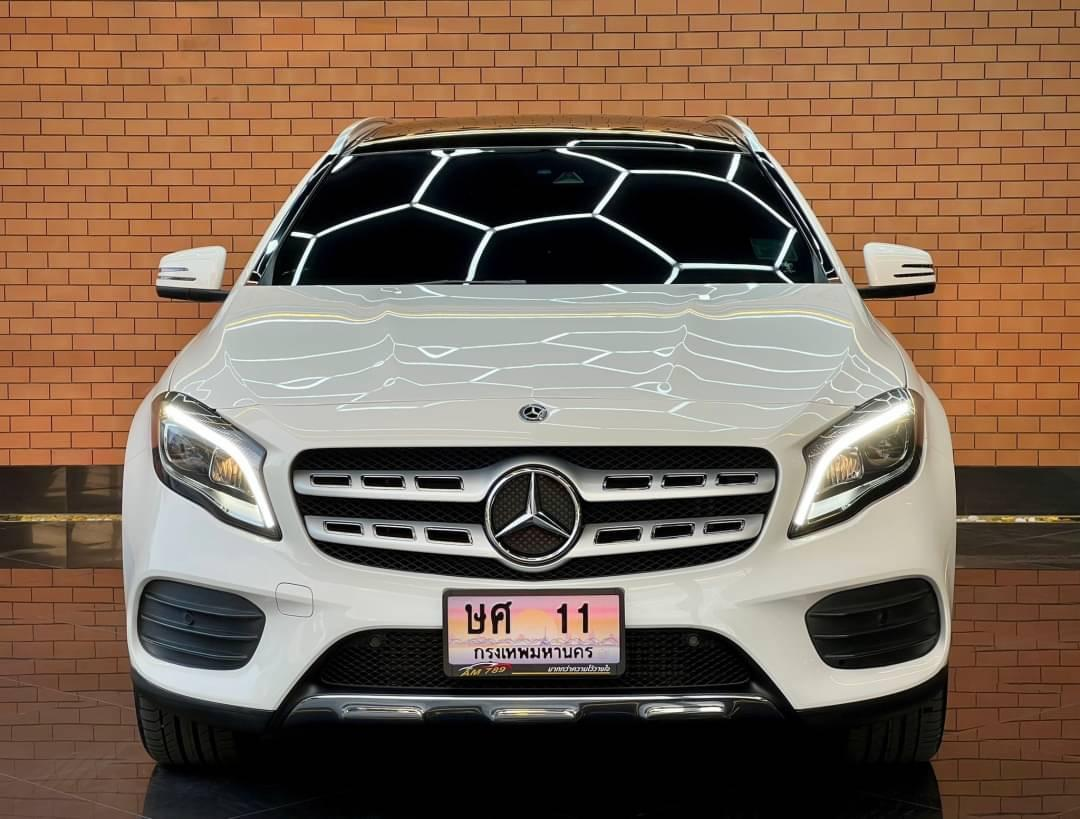license-plate: (440, 586, 629, 682)
